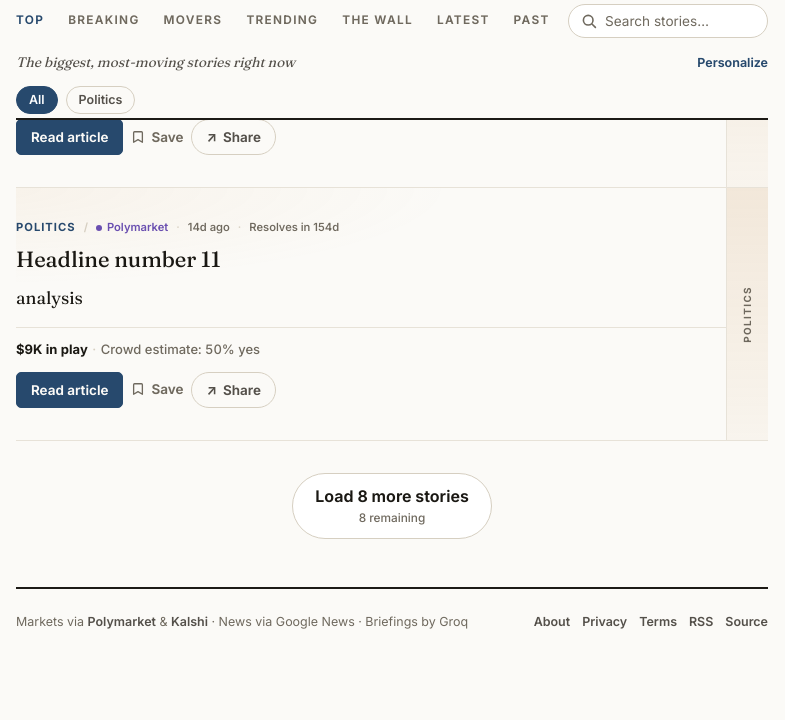
Test: App feed windowing (pagination) › collapses the window back to one page when the reader changes section
(page scrolled)
Click the button "Load 8 more stories 8 remaining" at {"x": 392, "y": 506}, box top-left (292, 473), bottom-right (492, 539)
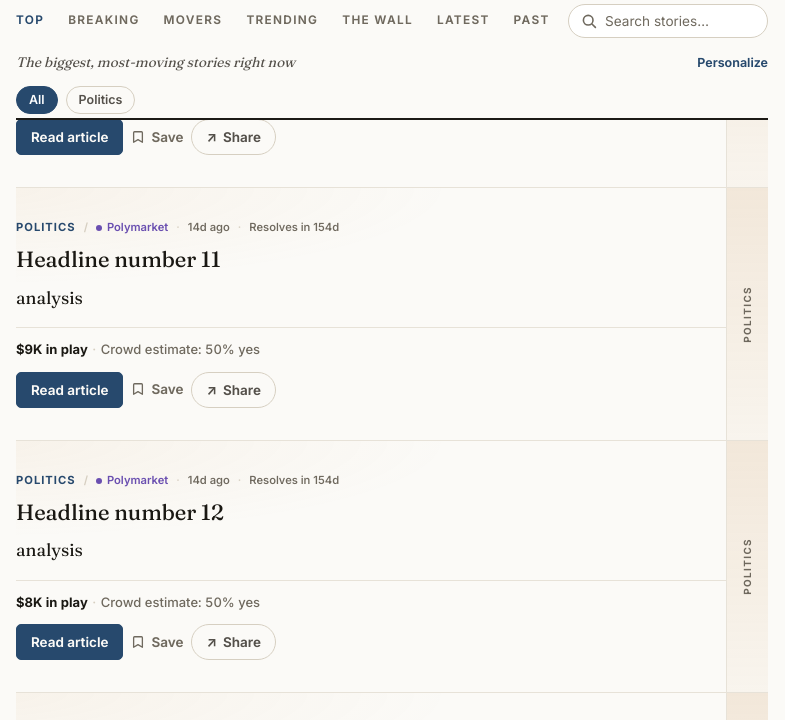
Note: Switching section is a fresh list — it must reset to the first page.
Click the button "Trending" at {"x": 282, "y": 21}, box top-left (246, 0), bottom-right (318, 42)
(page scrolled)
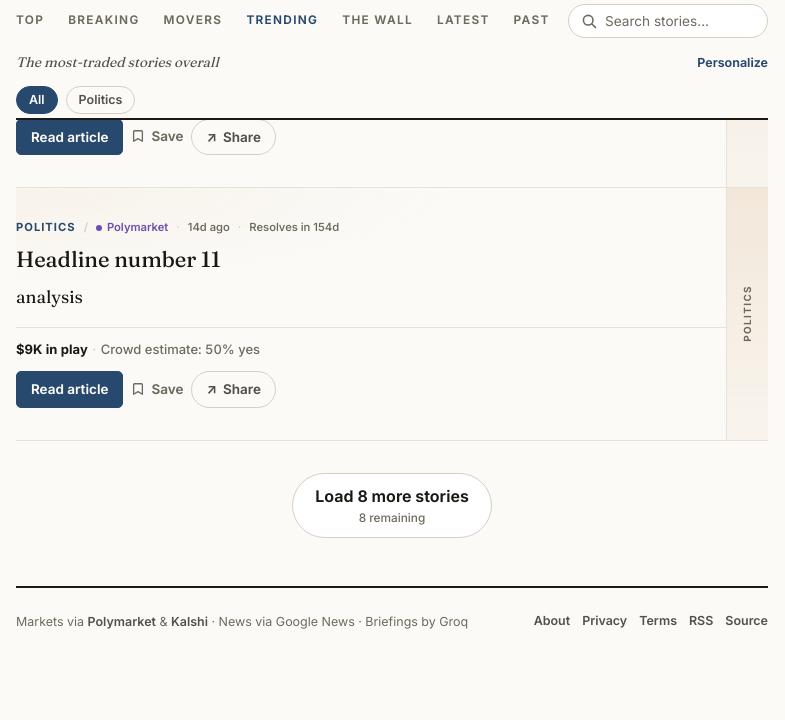
Expected: the button "Load 8 more stories 8 remaining" is shown, top-left (292, 472), bottom-right (492, 538)
